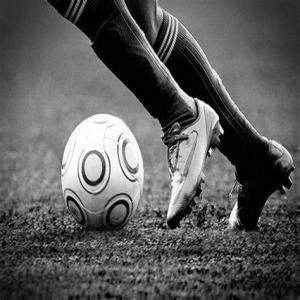Football: (59, 113, 145, 229)
